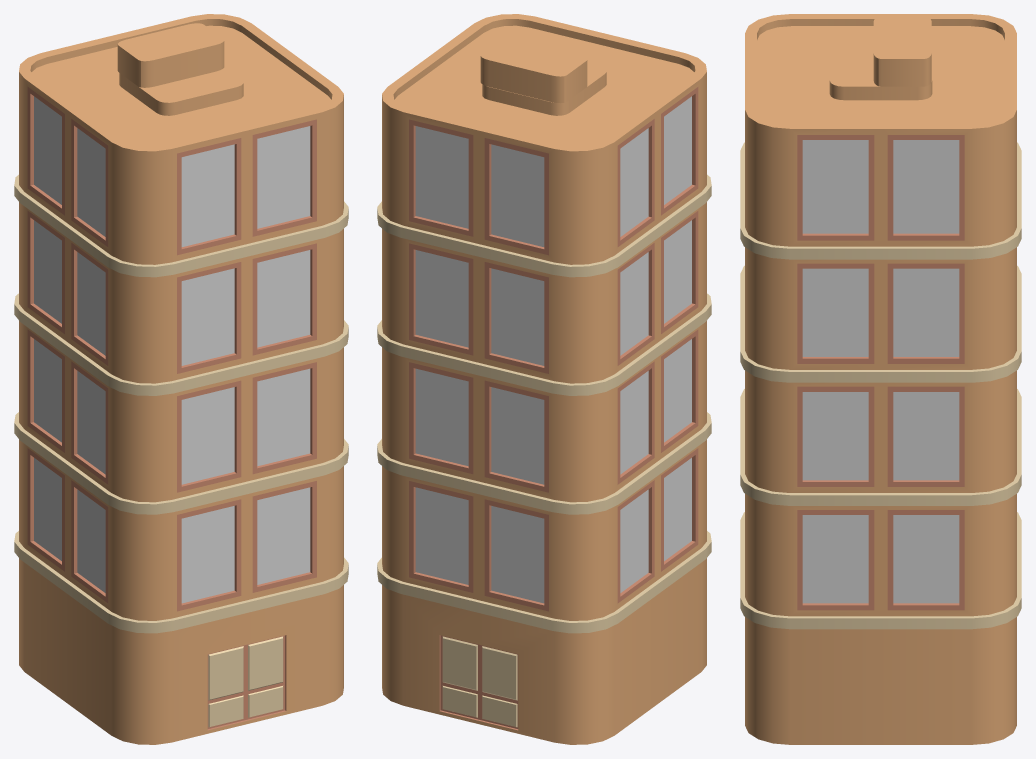
File: cb-apartment-B.fbx
3 views of the same model, side by side, from view 1: azimuth 30°, elevation 25°; view 2: azimuth 150°, elevation 25°; view 3: azimuth 270°, elevation 25° (orthographic). The views are drawn at different scales.
Visible parts, largest first — view 1: cb-apartment-B; view 2: cb-apartment-B; view 3: cb-apartment-B.
Boxes of the visible parts, bbox=[...] form: cb-apartment-B: bbox=[14, 14, 348, 744]; cb-apartment-B: bbox=[377, 14, 711, 744]; cb-apartment-B: bbox=[740, 14, 1021, 744].
Size of the model in its own units: 7.48 by 19.06 by 7.48.
